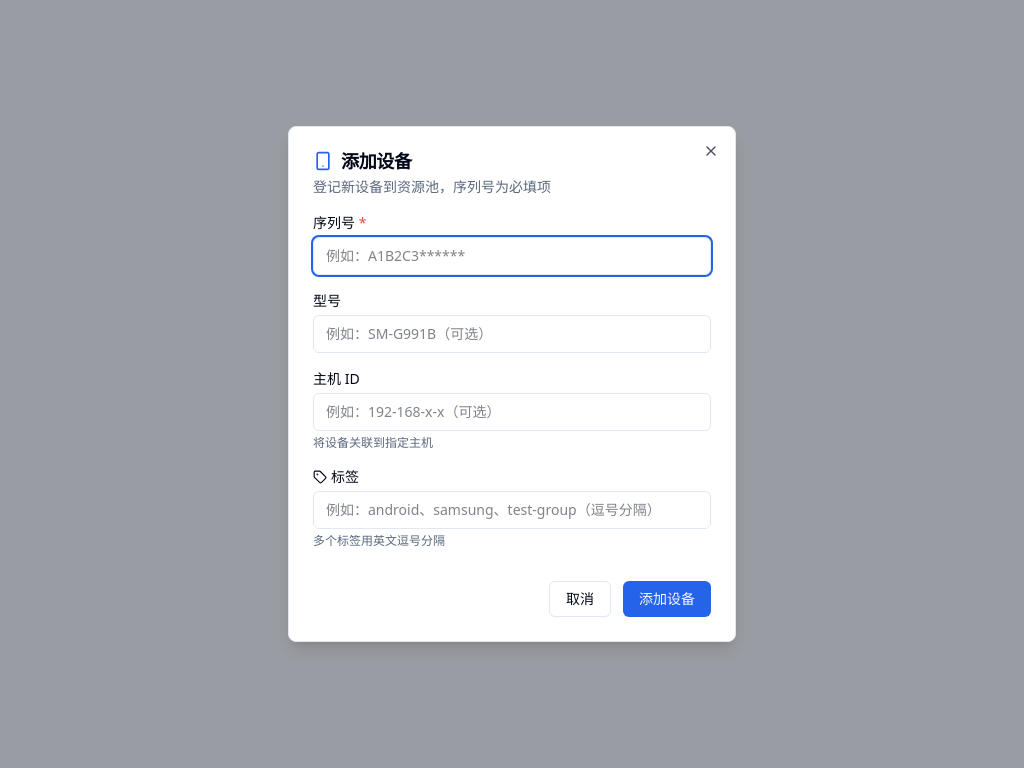
Test: AddDeviceModal › #953: rejects whitespace-only / illegal characters in host id
In the field labelled "序列号 *": (512,256) 313,237 -> 711,275, type "SERIAL-1"
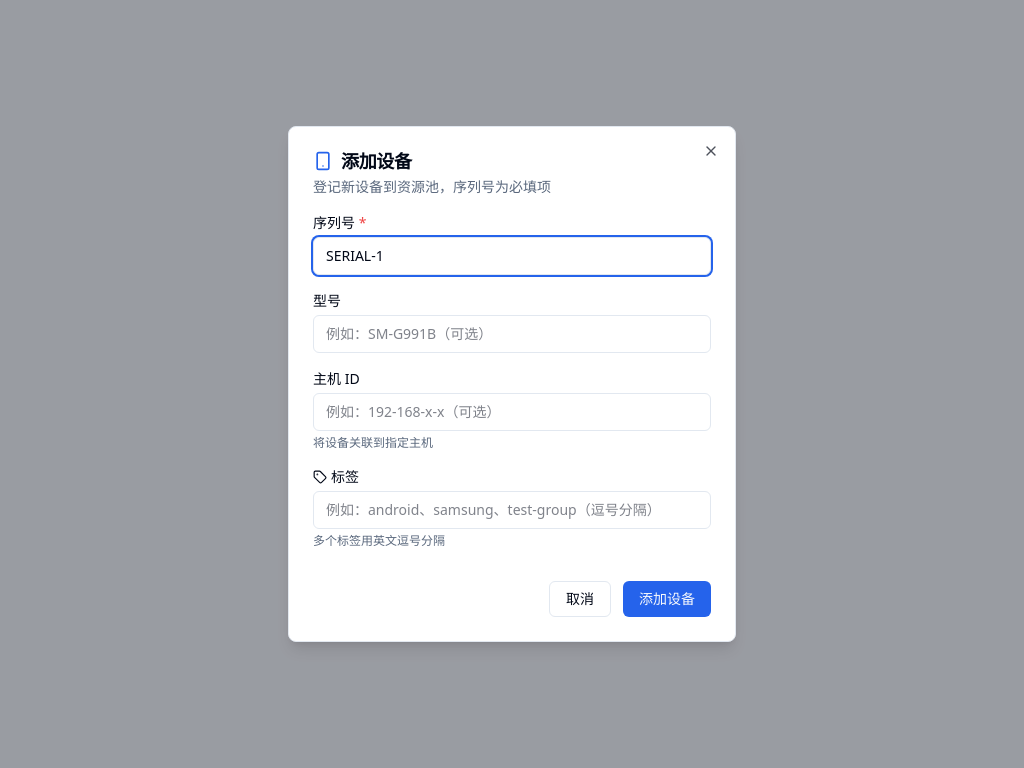
In the field labelled "主机 ID": (512,412) 313,393 -> 711,431, type "bad host id!"
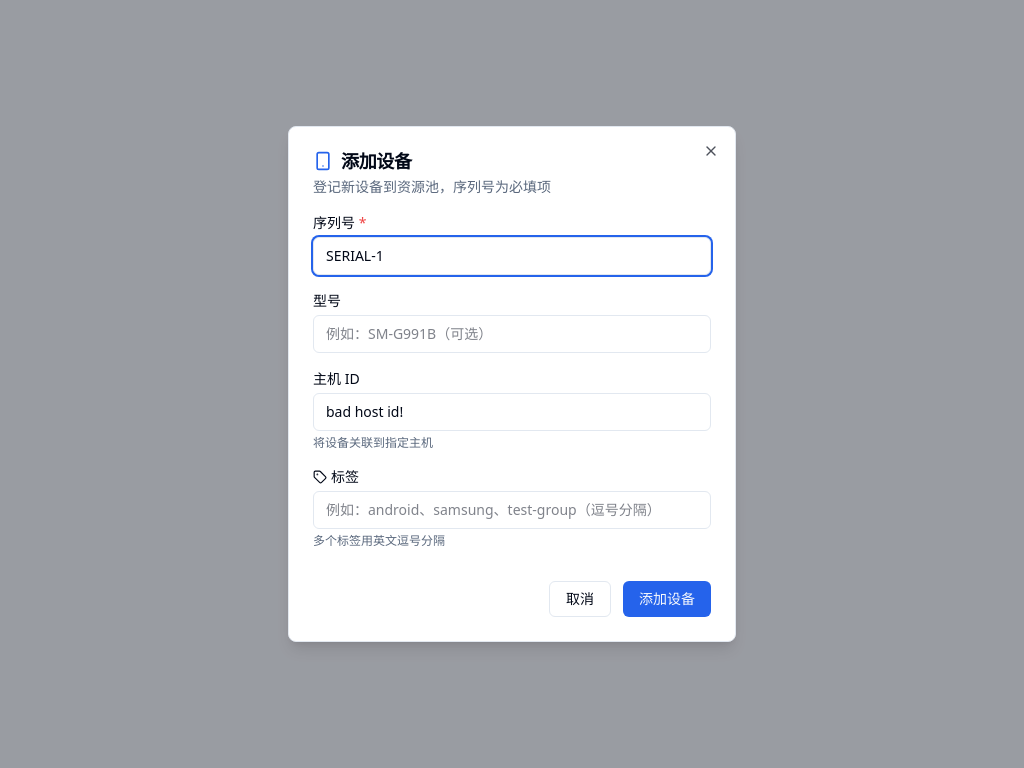
Click the button "添加设备": (667,599) 623,581 -> 711,617
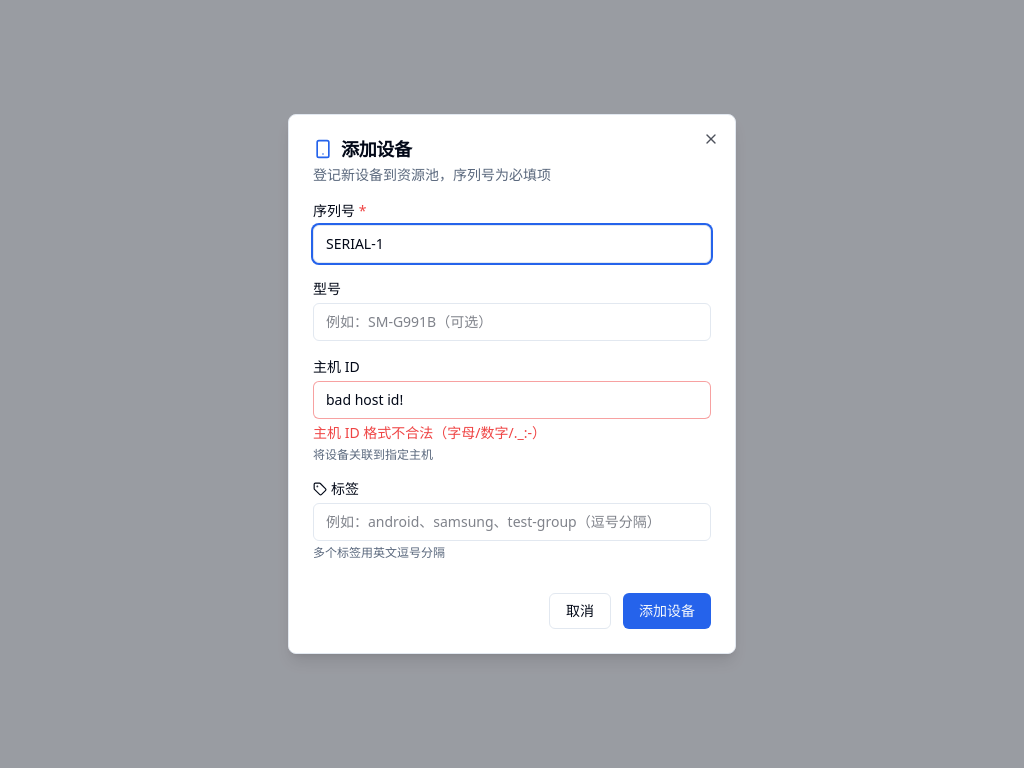
Now the text "主机 ID 格式不合法（字母/数字/._:-）" is shown, box 313,423 -> 546,442
